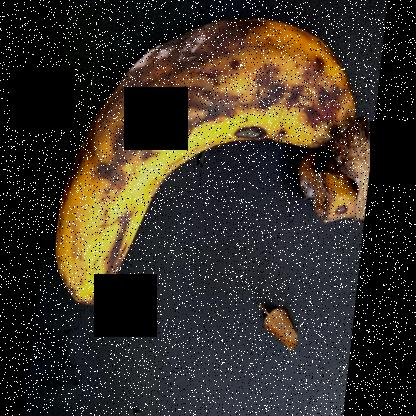overripe: (54, 11, 354, 326)
rotten: (68, 1, 258, 165)
